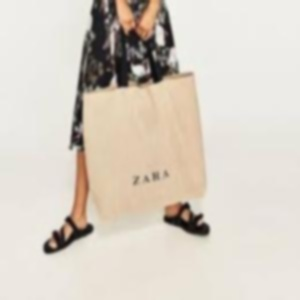zara: (120, 83, 246, 249)
